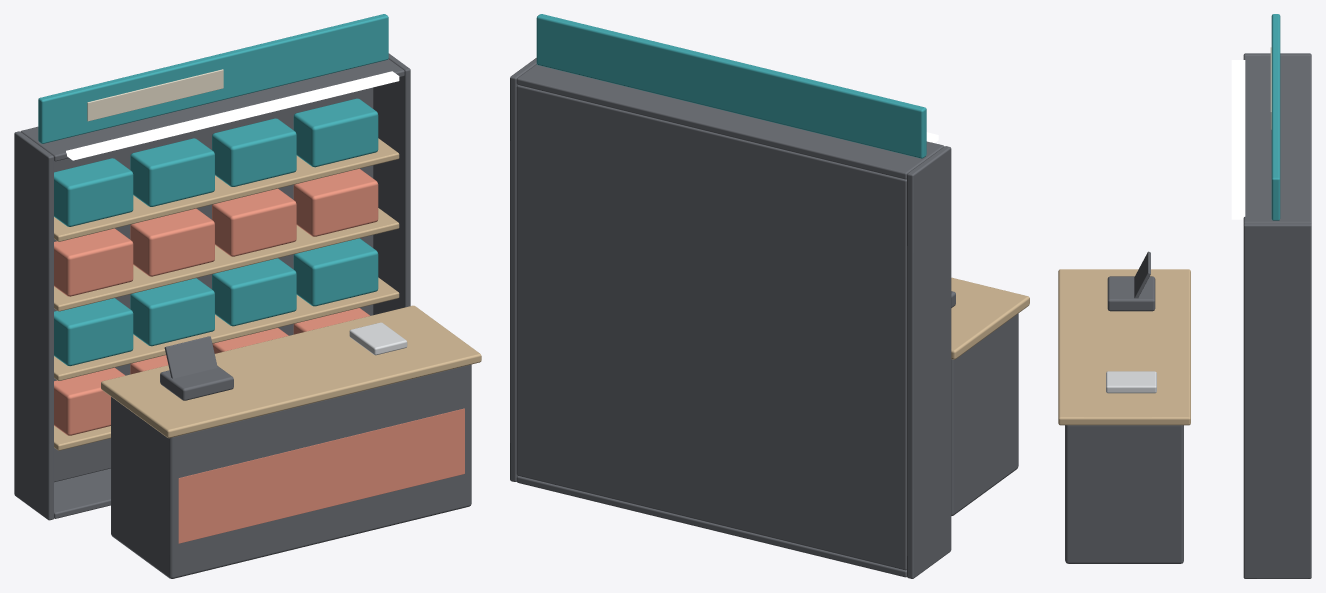
The model's file is public-aquarium-and-marine-centre-gift-shop-counter-4204e45a__34166.glb.
3 views of the same model, side by side, from view 1: azimuth 30°, elevation 25°; view 2: azimuth 150°, elevation 25°; view 3: azimuth 270°, elevation 25° (orthographic). The views are drawn at different scales.
Parts seen in each view (by area): view 1: gift-shop-counter; view 2: gift-shop-counter; view 3: gift-shop-counter.
Boxes of the visible parts, box(x1,y1,x2,y2) form: gift-shop-counter: box(14, 14, 481, 578); gift-shop-counter: box(510, 14, 1029, 578); gift-shop-counter: box(1058, 14, 1311, 578).
Bounding box in the file's own units: 2.4 × 2.58 × 1.49.
